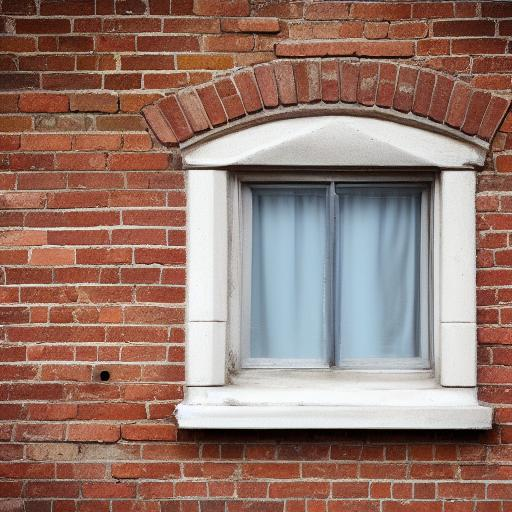Window: (140, 60, 512, 434)
